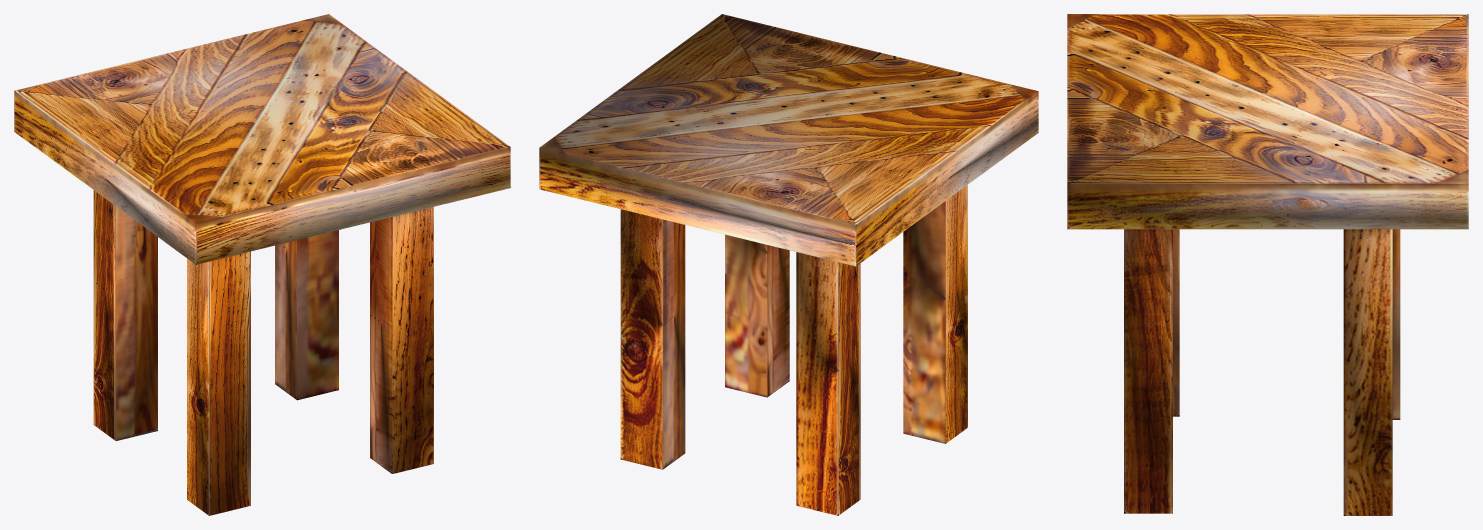
The model's file is table1.glb.
The picture shows the model from 3 angles, left to right: view 1: azimuth 30°, elevation 25°; view 2: azimuth 150°, elevation 25°; view 3: azimuth 270°, elevation 25°; orthographic projection. The views are drawn at different scales.
Size of the model in its own units: 8 by 7.86 by 8.
Materials: 1 (1 with a texture image).
